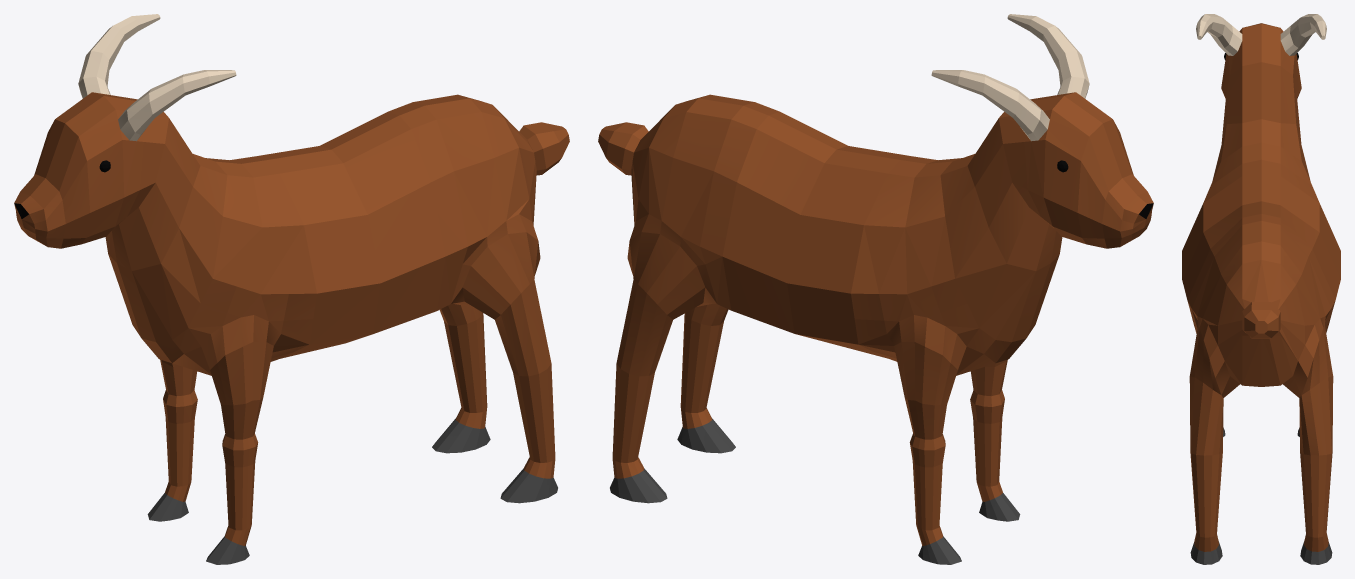
3 views of the same model, side by side, from view 1: azimuth 30°, elevation 25°; view 2: azimuth 150°, elevation 25°; view 3: azimuth 270°, elevation 25° (orthographic). The views are drawn at different scales.
Visible parts, largest first — view 1: goat; view 2: goat; view 3: goat.
Boxes of the visible parts, box(x1,y1,x2,y2) form: goat: box(14, 14, 569, 564); goat: box(598, 14, 1153, 564); goat: box(1182, 14, 1340, 564).
Size of the model in its own units: 7.97 by 7.03 by 2.49.
5 materials, 1 textured.
